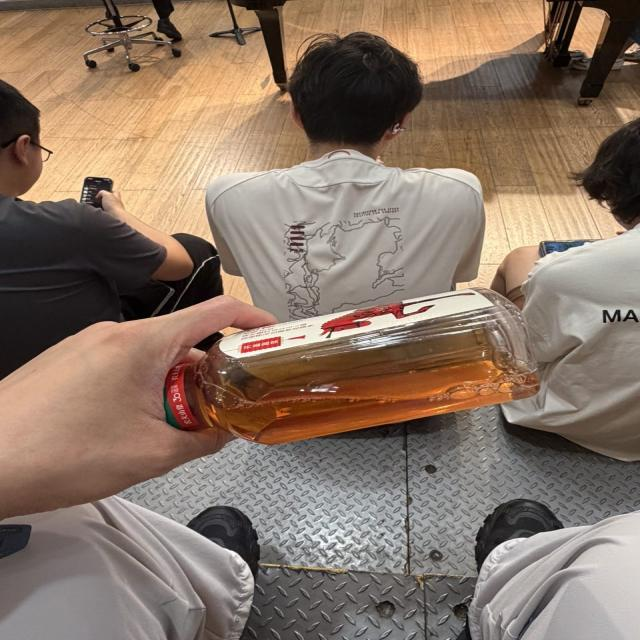medium: (163, 289, 537, 444)
